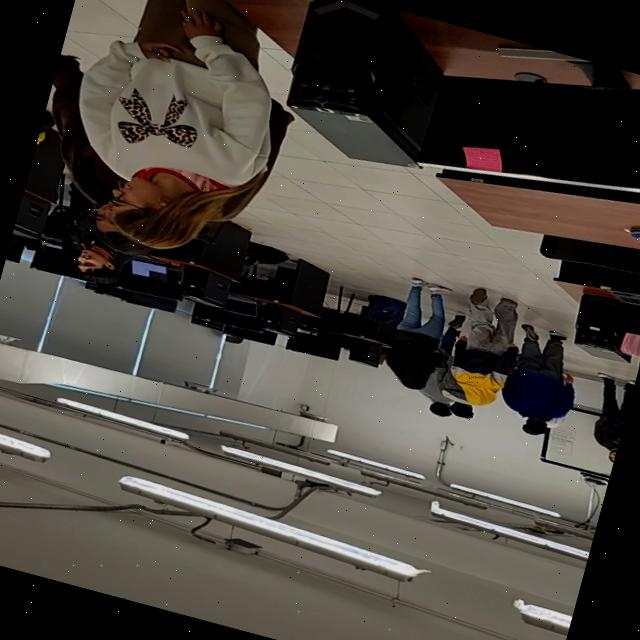Persona: (43, 0, 320, 273), (488, 320, 592, 442), (439, 285, 530, 412), (46, 188, 156, 292), (376, 275, 464, 396), (572, 371, 634, 464), (428, 356, 488, 420), (409, 369, 460, 419)
